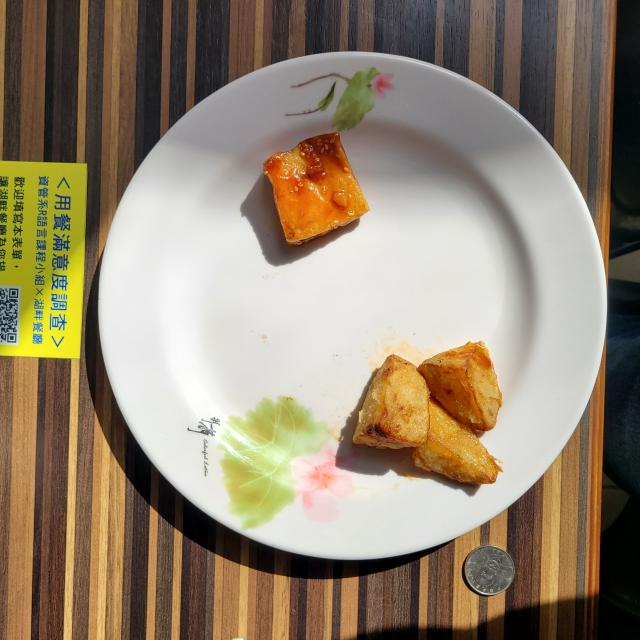coin: (464, 545, 515, 596)
creamy tofu: (264, 132, 369, 245)
fried potato: (352, 341, 502, 484)
